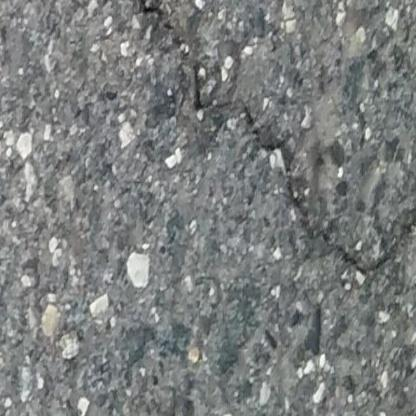Cracks: (179, 59, 416, 279), (100, 0, 183, 50)
